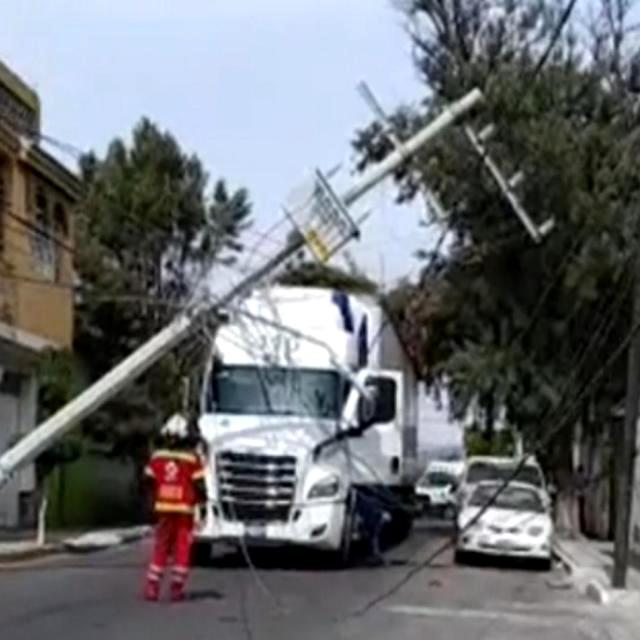Broken Pole: (0, 80, 559, 487)
